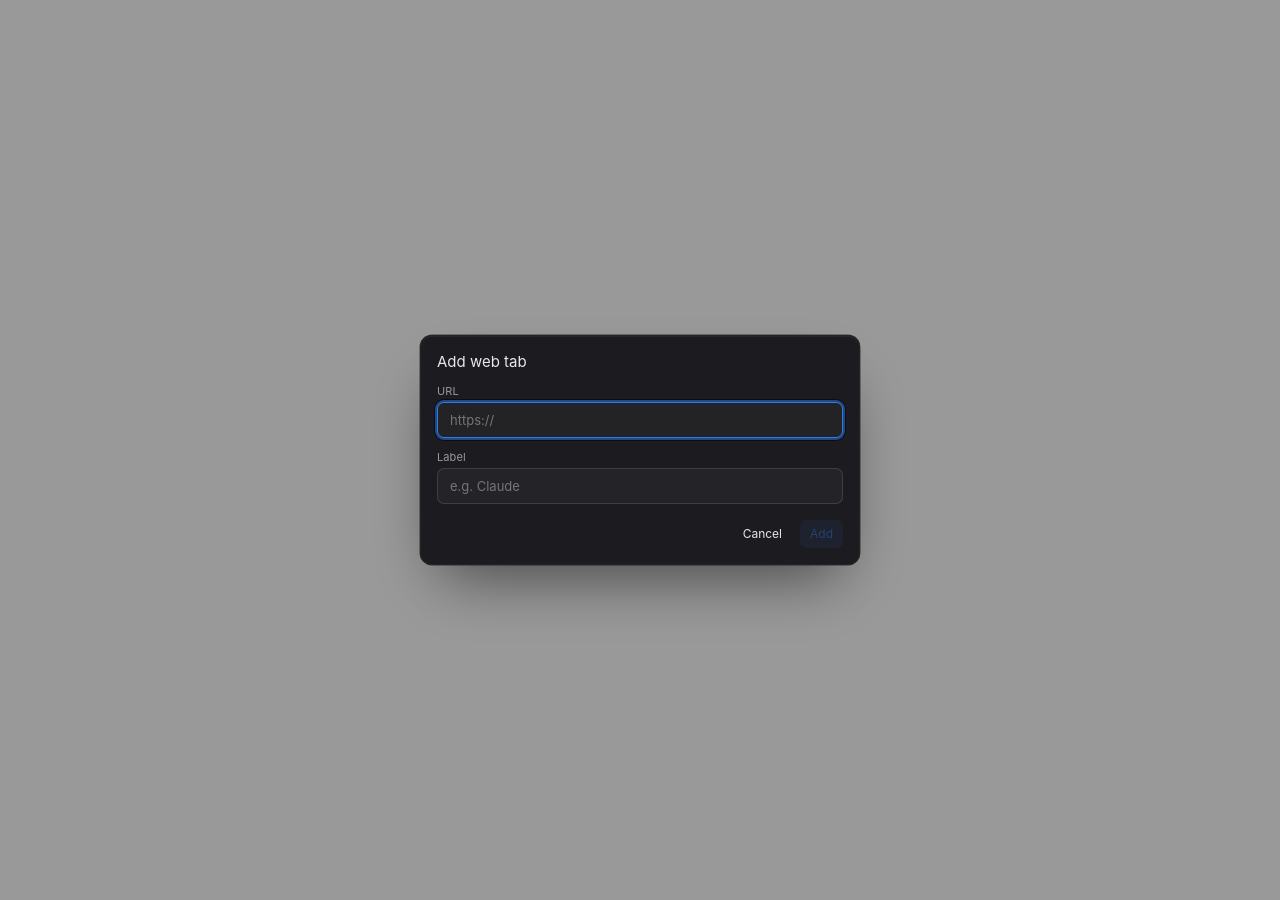
AddWebServiceModal › disables Add until the URL is a valid http(s) URL
The width and height of the screenshot is (1280, 900).
Check: the button "Add" is disabled, box [800,520,843,548]
In the field named "Service URL": (640, 420) [437,402,843,438], type "not a url"
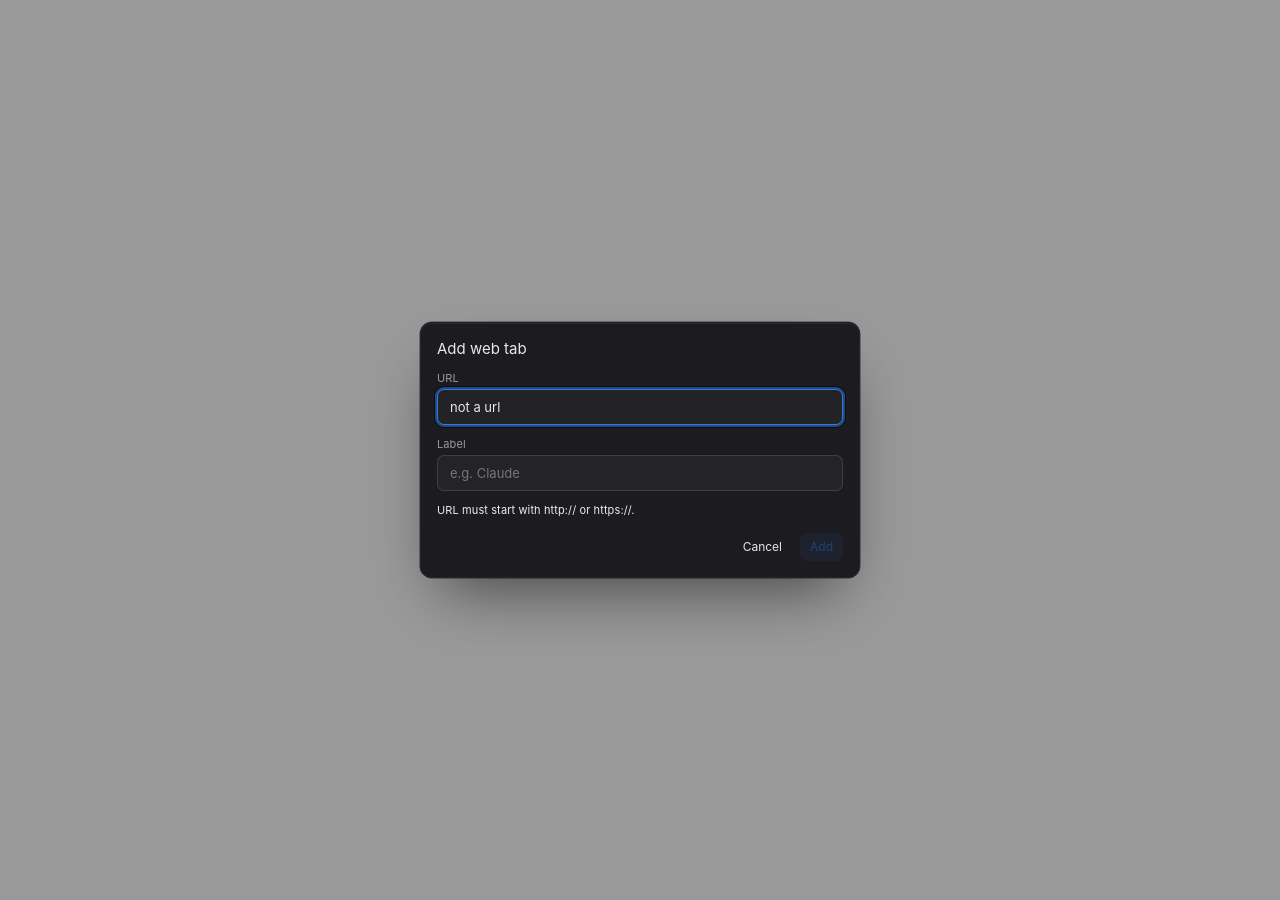
Check: the button "Add" is disabled, box [800,533,843,561]
Check: the message "URL must start with http:// or https://." is shown, box [437,503,635,517]
Replace the text in the field named "Service URL" with "https://chat.openai.com": (640, 407) [437,389,843,425]
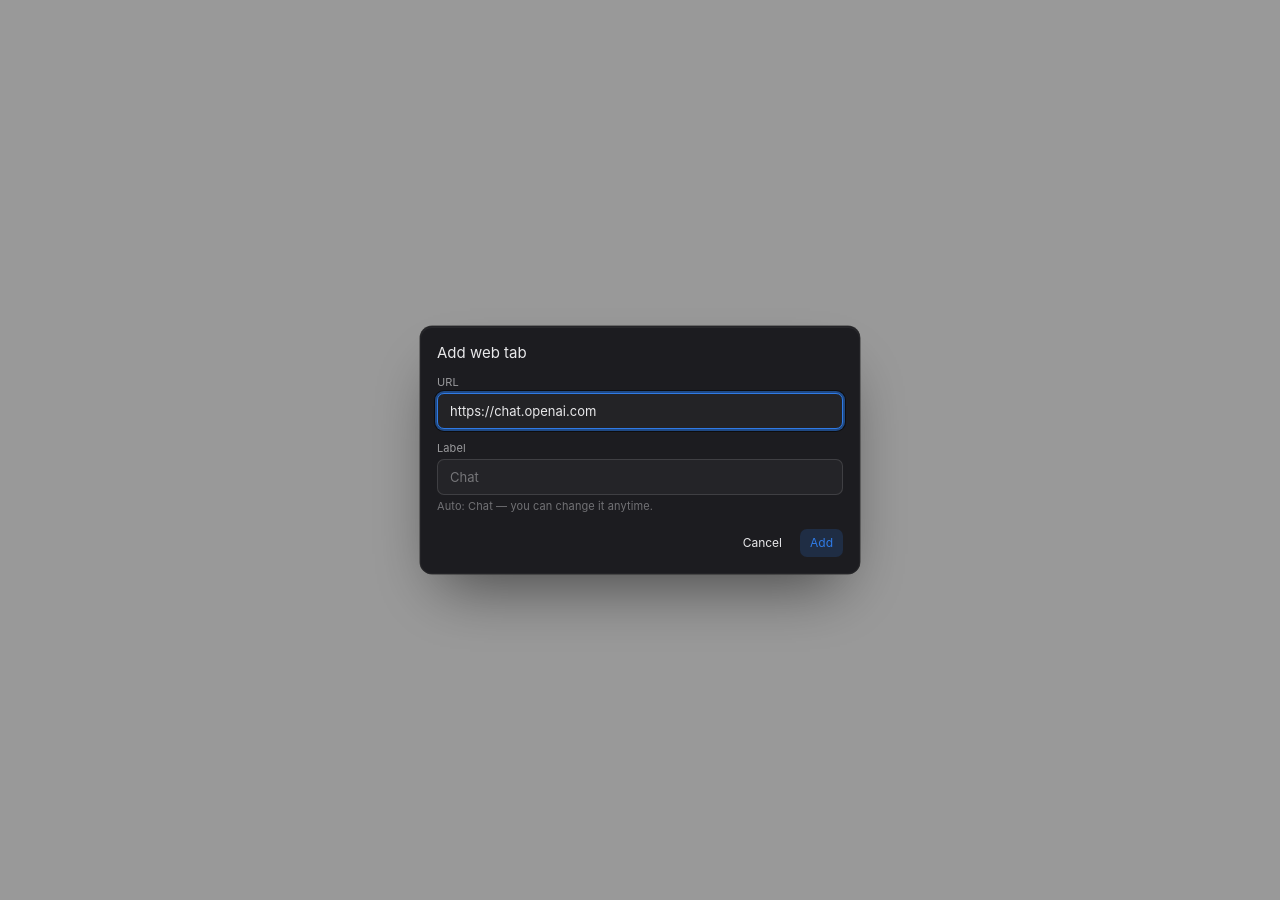
Check: the button "Add" is enabled, box [800,529,843,557]
